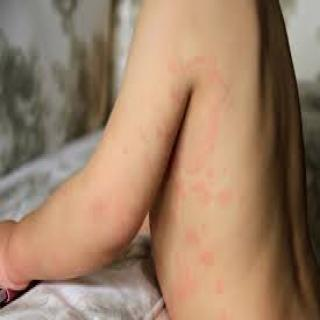urticaria: (194, 56, 234, 152), (183, 226, 231, 297), (187, 164, 233, 212)
